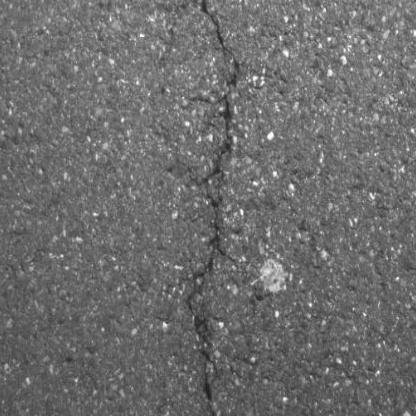Cracks: (184, 0, 243, 416)
